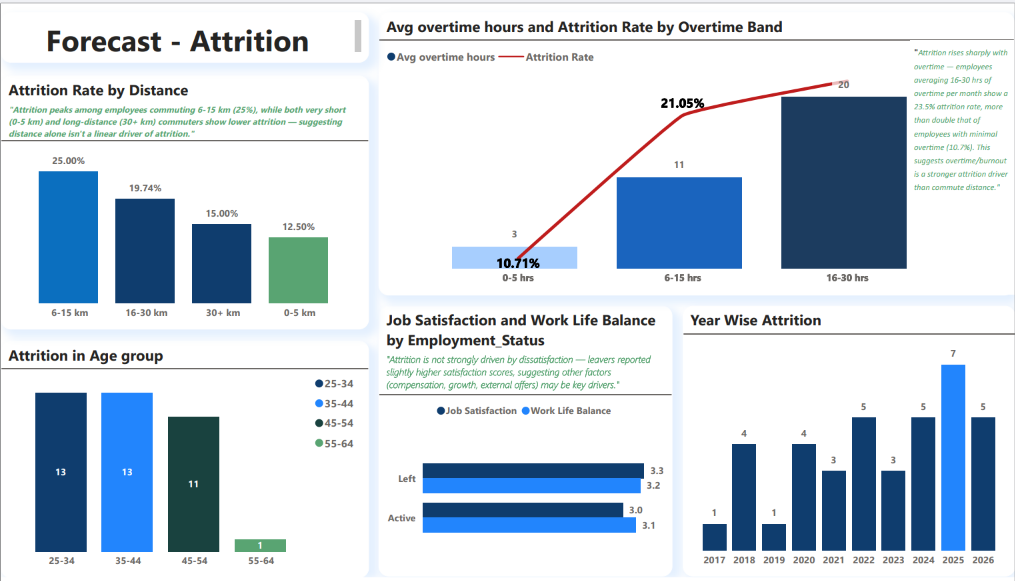

The page's visual inventory and layout, read from the dashboard file:
{"tool":"powerbi","page":{"name":"Attrition Forecast","canvas":[1280,720],"ordinal":1},"visuals":[{"type":"columnChart","title":"Attrition in Age group","fields":{"Category":["HR_Data.Age Group"],"Series":["HR_Data.Age Group "],"Y":["All meaures.Employees LEFT"]},"box":[0,421.2,465.2,300],"z":0},{"type":"clusteredBarChart","title":"Job Satisfaction and Work Life Balance by Employment_Status","fields":{"Category":["HR_Data.Employment_Status"],"Y":["All meaures.Avg Job Satisfaction","All meaures.Avg Work Life Balance"]},"box":[477.3,377.3,371.2,342.4],"z":1000},{"type":"clusteredColumnChart","fields":{"Y":["All meaures.Attrition Rate"],"Category":["HR_Data.Distance Band"]},"box":[0,86.4,465.2,321.2],"z":2000},{"type":"lineClusteredColumnComboChart","fields":{"Category":["HR_Data.Overtime Band"],"Y2":["All meaures.Attrition Rate"],"Y":["All meaures.Avg overtime hours"]},"box":[477.3,6.1,803,357.6],"z":3000},{"type":"textbox","box":[1148.5,42.4,131.8,321.2],"z":4000},{"type":"clusteredColumnChart","title":"Year Wise Attrition","fields":{"Category":["HR_Data.Leaving Year"],"Y":["All meaures.Employees LEFT"]},"box":[860.6,377.3,419.7,342.4],"z":5000},{"type":"textbox","box":[0,6.1,465.2,63.6],"z":6000}]}

Visuals, with their boxes in screenshot pixels (x1, y1, x2, y2), scaled from the page's 1280x720 canvas onto the 1015x581 screenshot:
"Attrition in Age group" columnChart: locate(0, 340, 369, 580)
"Job Satisfaction and Work Life Balance by Employment_Status" clusteredBarChart: locate(378, 304, 673, 580)
clusteredColumnChart - All meaures.Attrition Rate x HR_Data.Distance Band: locate(0, 70, 369, 329)
lineClusteredColumnComboChart - HR_Data.Overtime Band x All meaures.Attrition Rate: locate(378, 5, 1014, 293)
textbox: locate(911, 34, 1014, 293)
"Year Wise Attrition" clusteredColumnChart: locate(682, 304, 1014, 580)
textbox: locate(0, 5, 369, 56)
